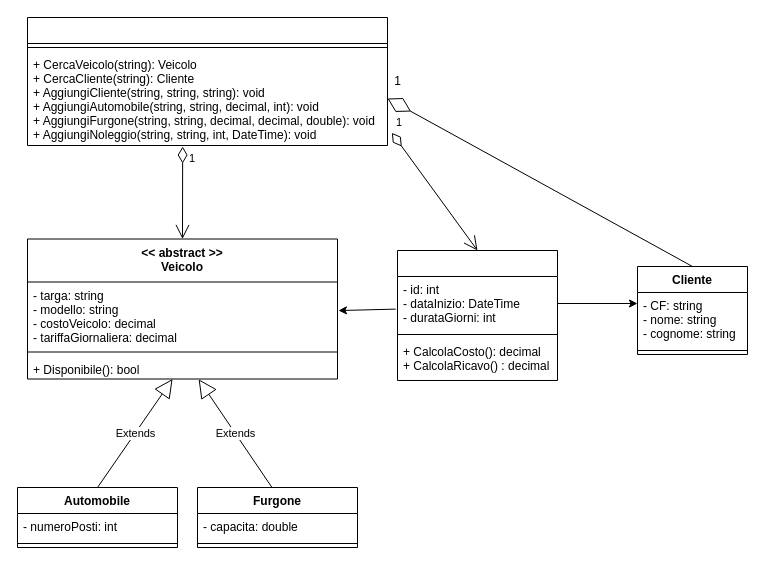
Some shapes in this 765 by 565 pixel diagram are drawn without their labels. The shapes that lost their labels are listed below. From the top down, each one's box as (x1, y1, x2, y2) in pixels, then its label:
(26, 16, 388, 146): SistemaNoleggi
(396, 250, 558, 380): Noleggio
